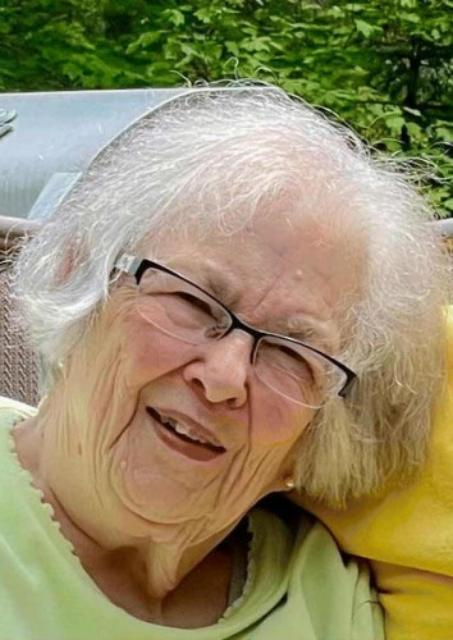frown_line: (248, 272, 272, 318)
gummy_smile: (148, 342, 191, 388), (236, 387, 266, 451)
masseter: (228, 439, 257, 503), (103, 342, 128, 388)
sad_smile: (114, 386, 140, 448), (210, 455, 230, 511)
